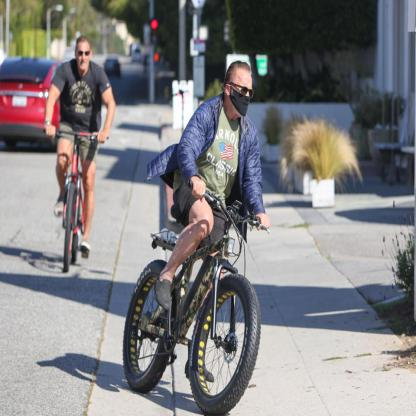Not_Wearing_Mask: (73, 38, 94, 76)
Wearing_Mask: (226, 64, 255, 123)
